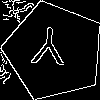Y: (29, 26, 67, 74)
